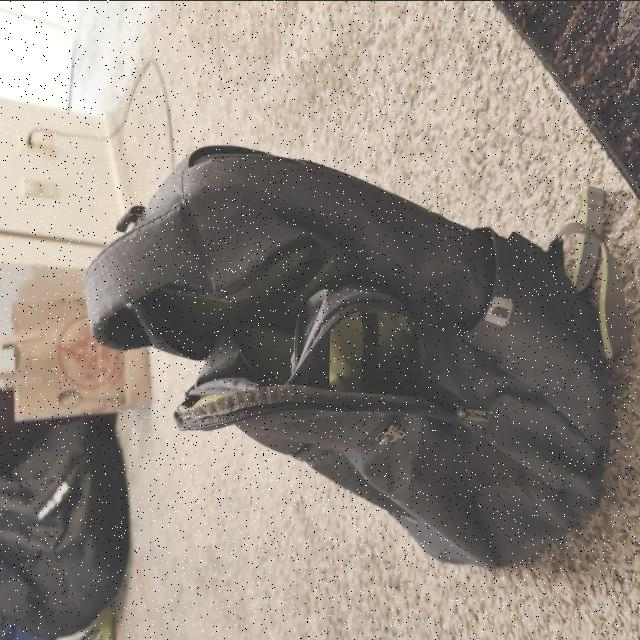bag: (91, 114, 575, 582)
